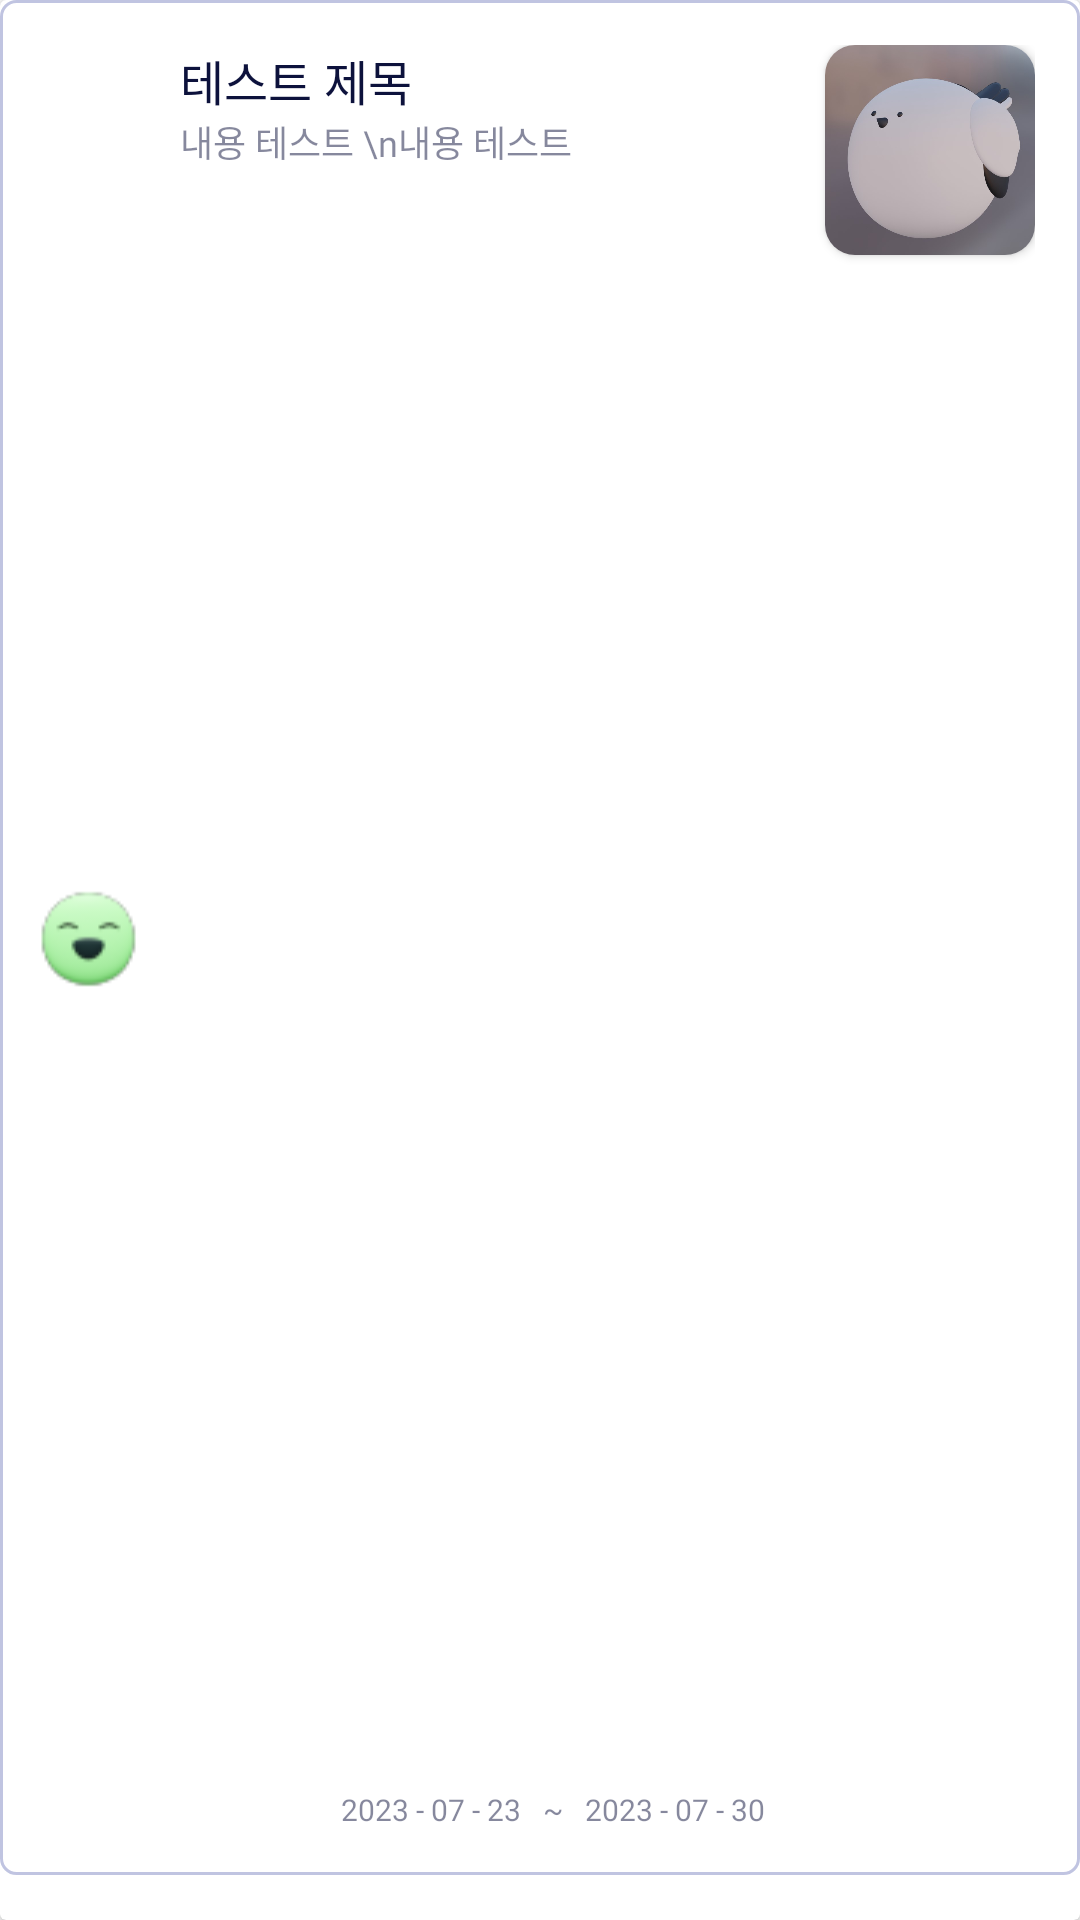

Icon bounding boxes for this 1080px x 1920px phone screenshot, format bbox=(x1, y1, x2, y2):
face really good: bbox=(41, 892, 136, 986)
